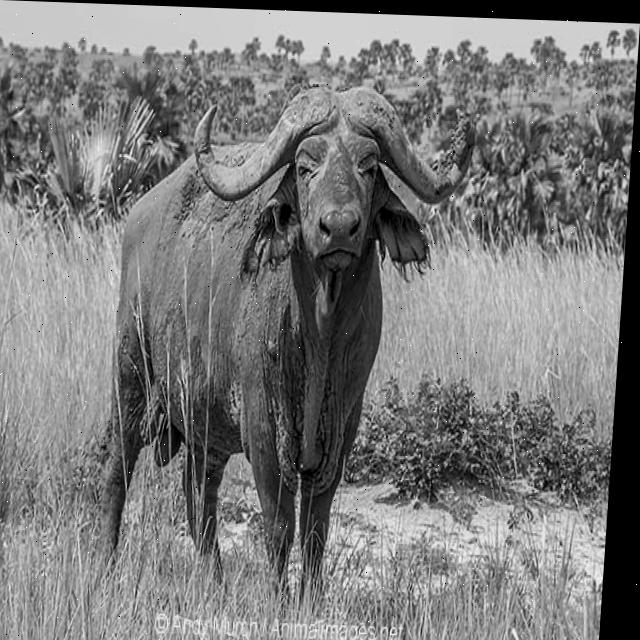Buffalo: (89, 78, 480, 602)
